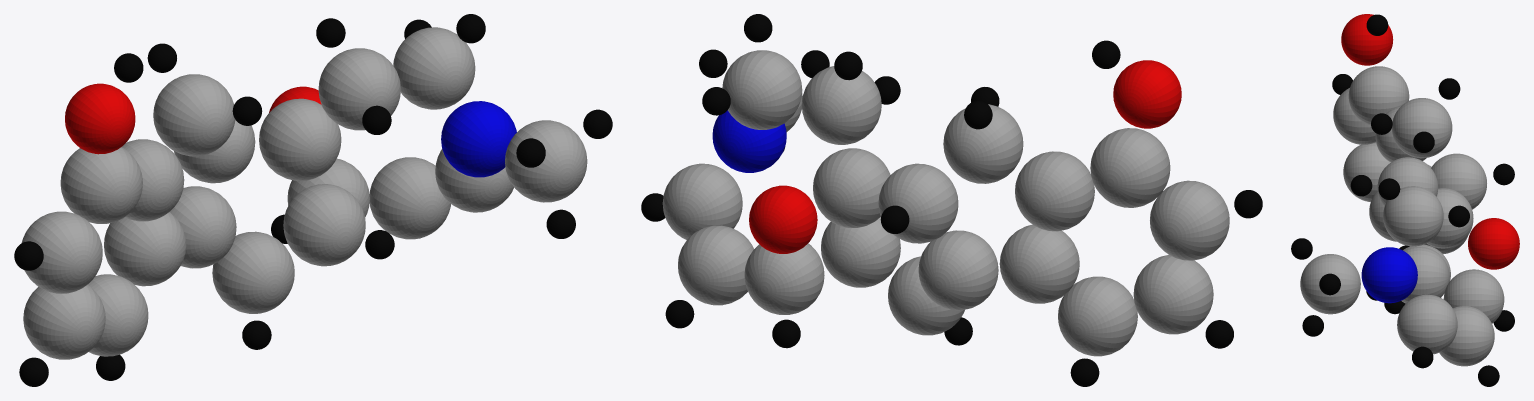
The model's file is Morphine.glb.
The picture shows the model from 3 angles, left to right: view 1: azimuth 30°, elevation 25°; view 2: azimuth 150°, elevation 25°; view 3: azimuth 270°, elevation 25°; orthographic projection. The views are drawn at different scales.
Visible parts, largest first — view 1: world; view 2: world; view 3: world.
Boxes of the visible parts, <box> form: world: <box>14,14,612,386</box>; world: <box>641,14,1262,386</box>; world: <box>1291,14,1519,386</box>.
Bounding box in the file's own units: 11.48 × 6.36 × 5.28.
